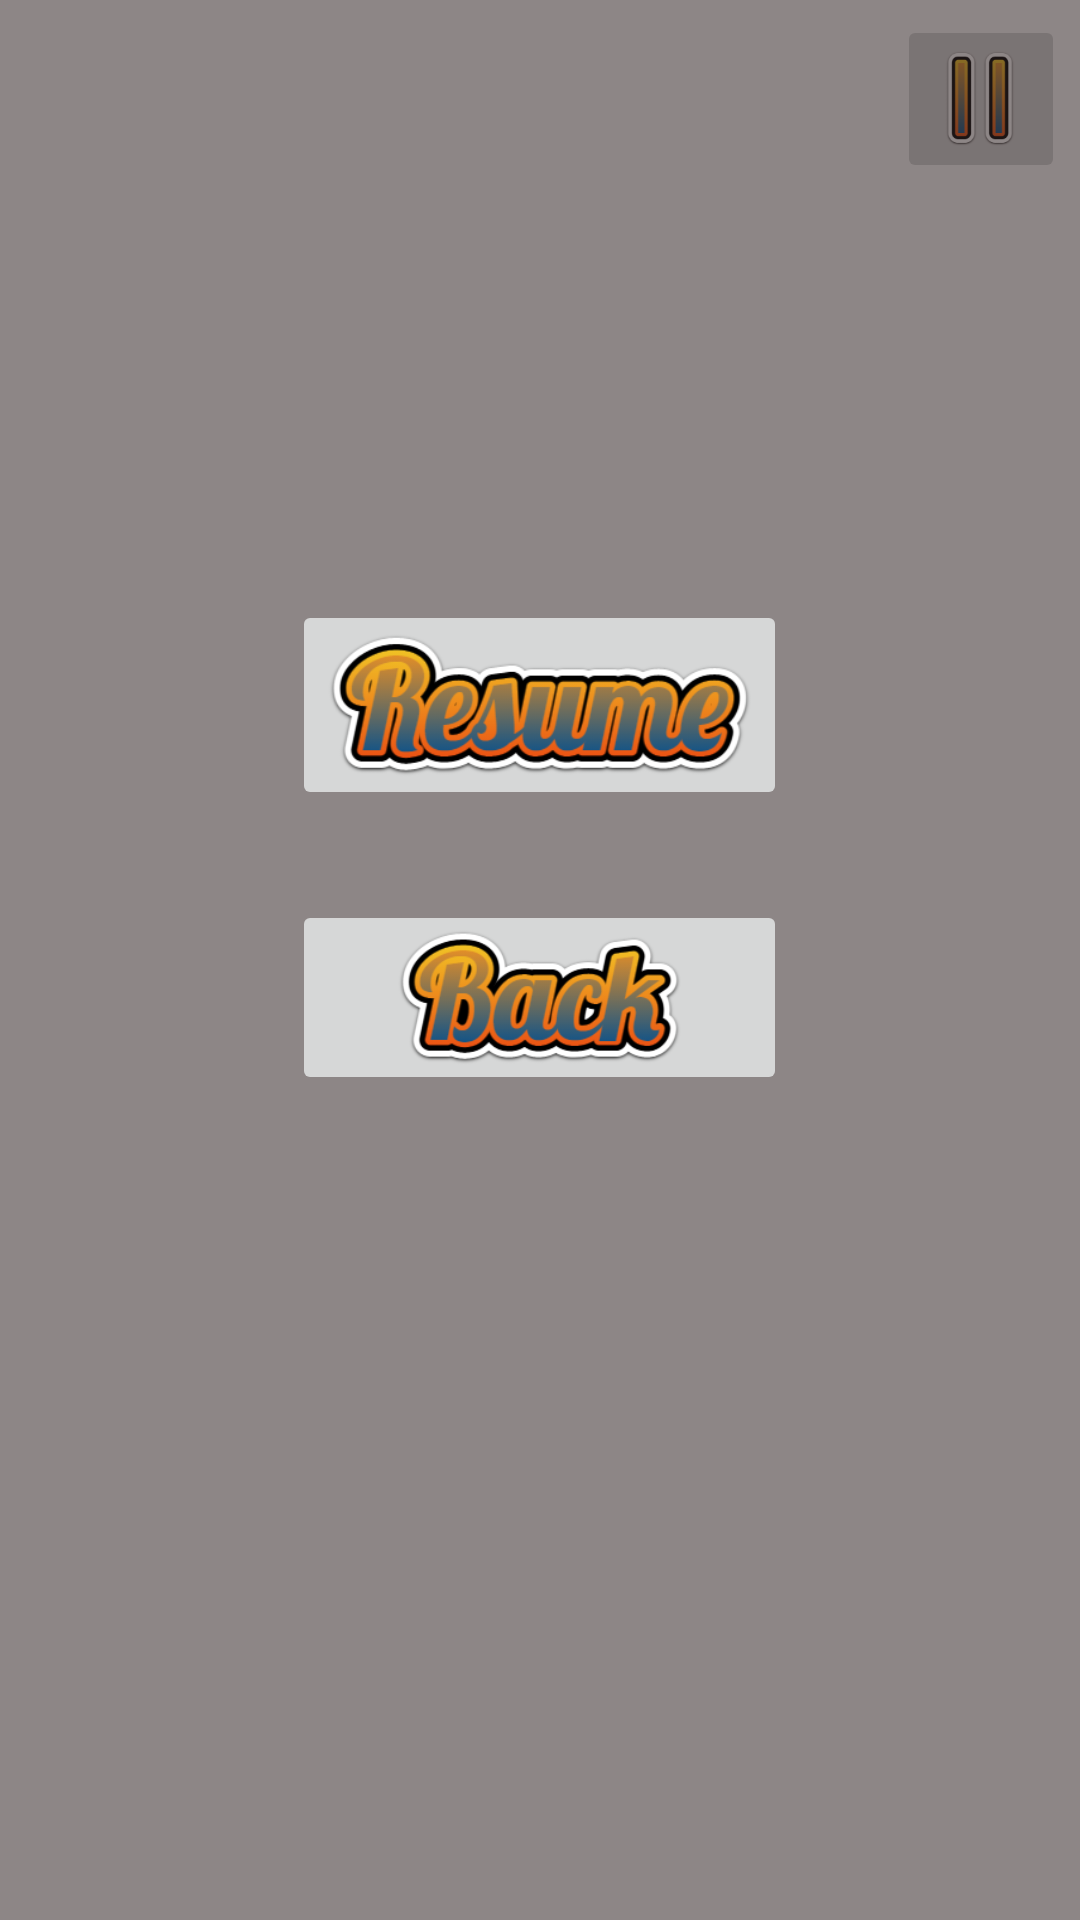

Point at icon controls on the screen. Image size 1080 × 1920, points as point (x, y).
game pause button: point (980, 98)
